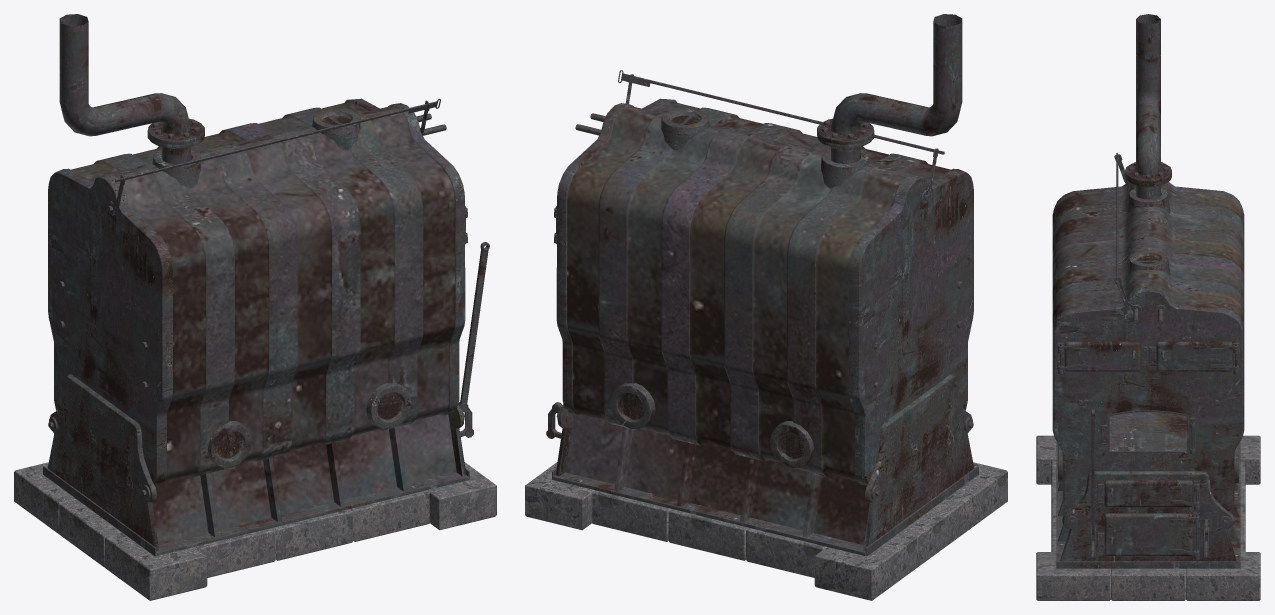
Rendered from SM_Boiler.FBX.
The picture shows the model from 3 angles, left to right: view 1: azimuth 30°, elevation 25°; view 2: azimuth 150°, elevation 25°; view 3: azimuth 270°, elevation 25°; orthographic projection. The views are drawn at different scales.
Visible parts, largest first — view 1: SM_Boiler_LOD0; view 2: SM_Boiler_LOD0; view 3: SM_Boiler_LOD0.
Part boxes in pixels (x1,y1,x2,y2): SM_Boiler_LOD0: (14, 14, 496, 600); SM_Boiler_LOD0: (525, 14, 1007, 600); SM_Boiler_LOD0: (1036, 14, 1260, 600).
Size of what is drawn, in the model's own units: 255 by 330 by 153.
